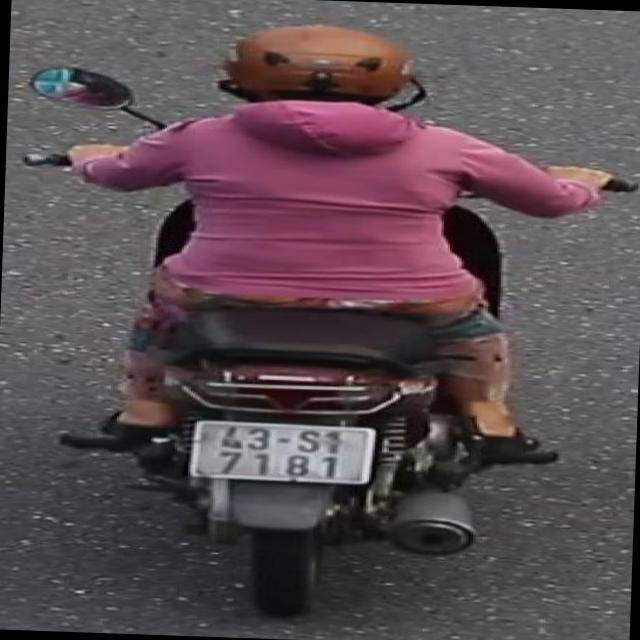LP: (186, 418, 386, 492)
helmet: (206, 16, 438, 132)
